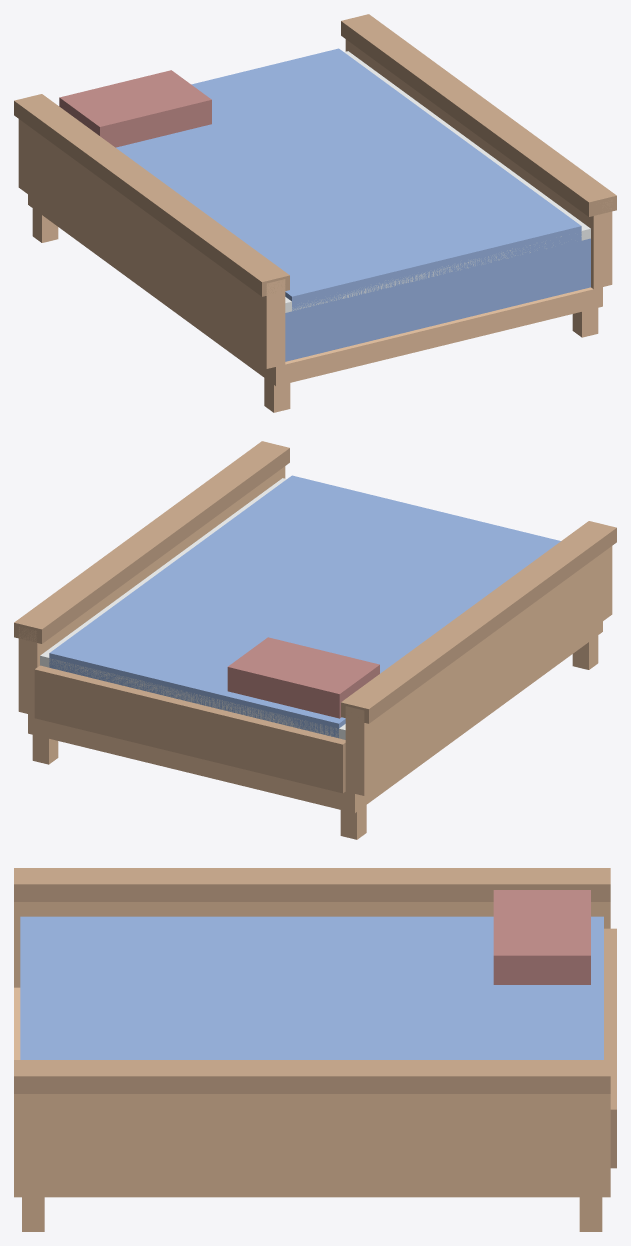
The model's file is bedFuton.glb.
3 renders of one model, top to bottom at view 1: azimuth 30°, elevation 25°; view 2: azimuth 150°, elevation 25°; view 3: azimuth 270°, elevation 25°, orthographic. The views are drawn at different scales.
Visible parts, largest first — view 1: bedFuton; view 2: bedFuton; view 3: bedFuton.
Part boxes in pixels (<box>): bedFuton: <box>14,14,616,412</box>; bedFuton: <box>14,441,616,839</box>; bedFuton: <box>14,868,616,1231</box>.
Bounding box in the file's own units: 0.76 × 0.28 × 0.93.
